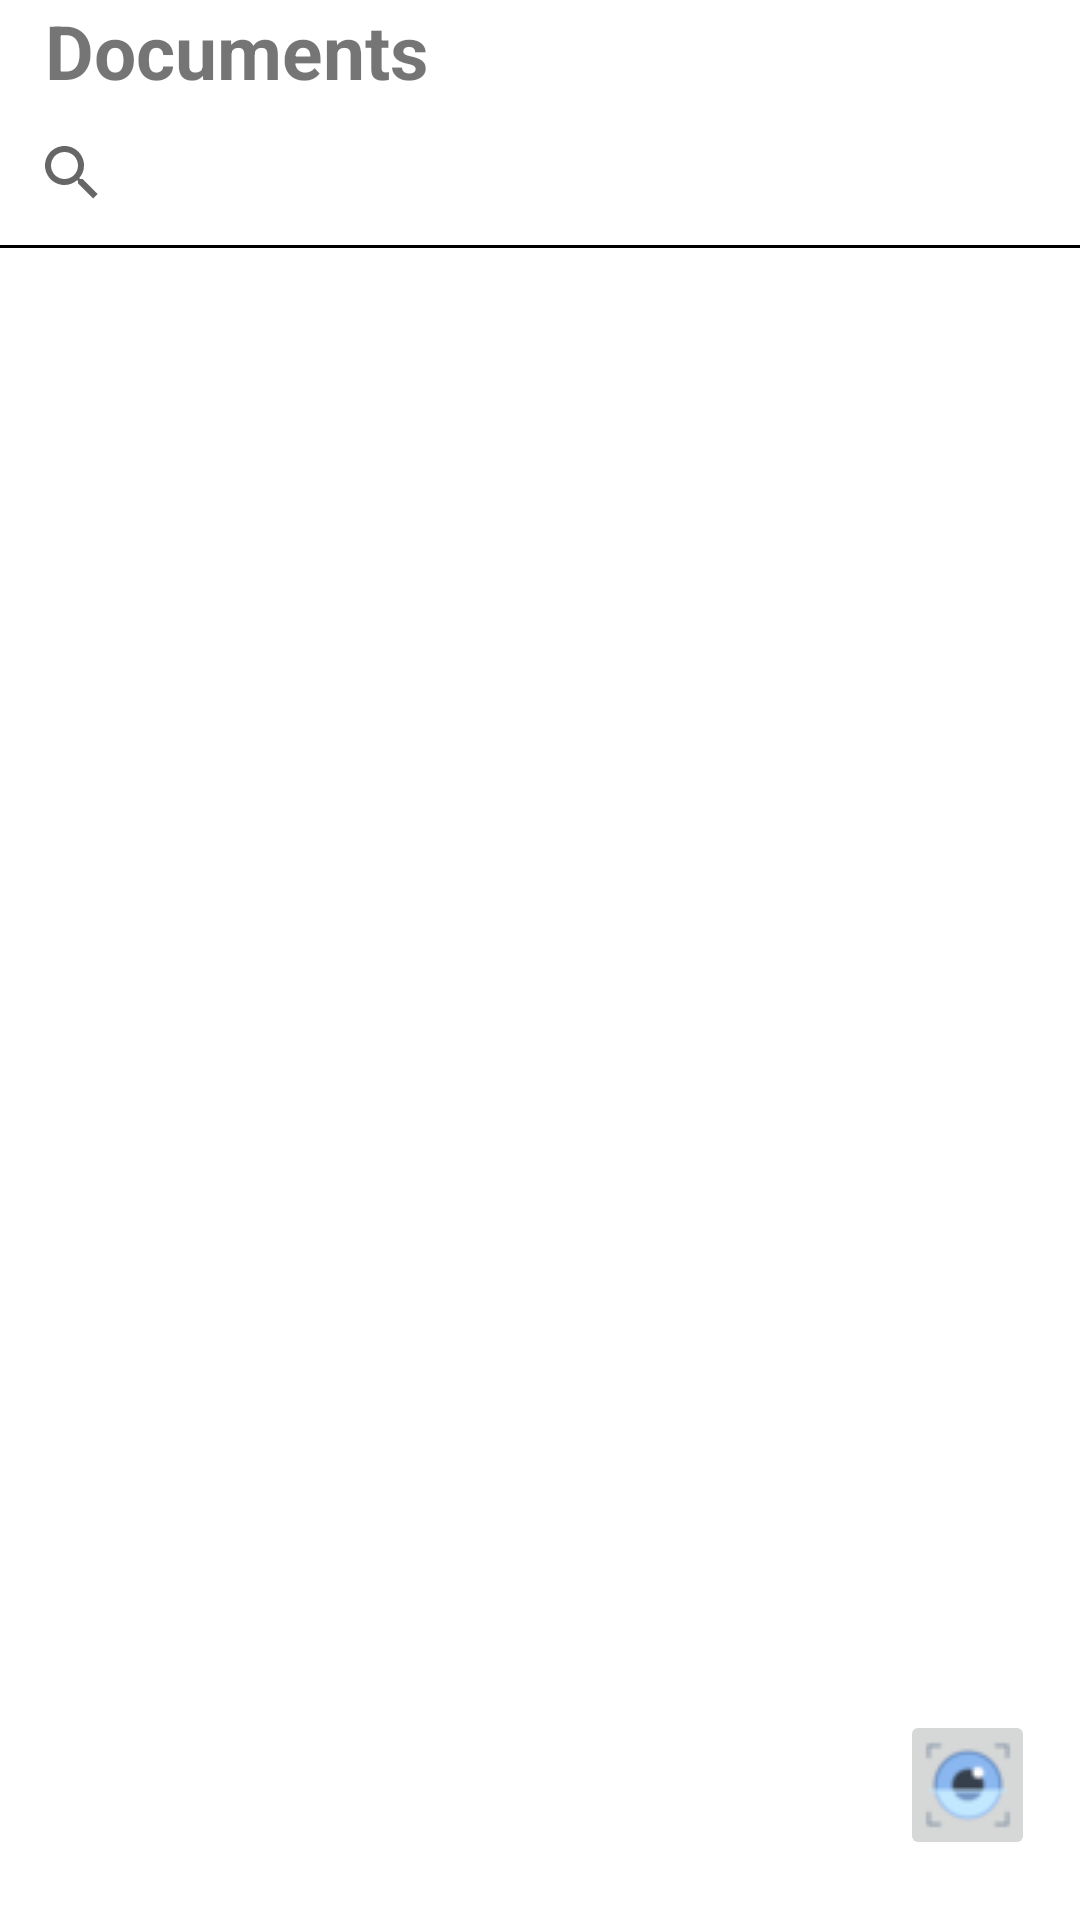

Named icons in this screenshot (1080x1920) and their bounding boxes, (x1, y1, x2, y2):
Make new scan: (912, 1728, 1023, 1842)
